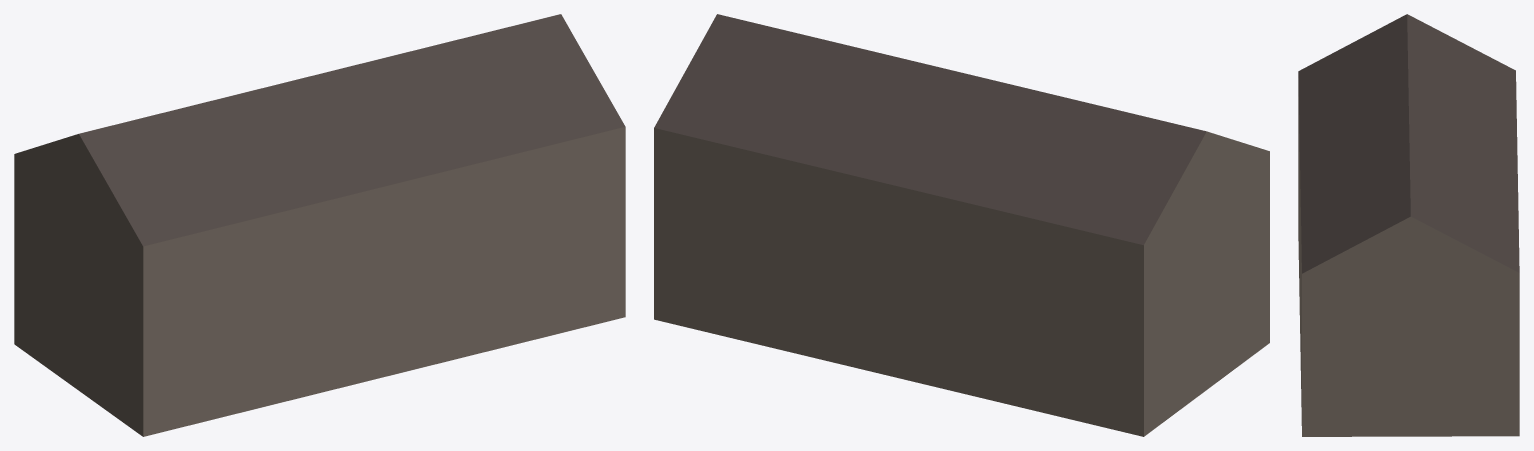
3 renders of one model, left to right at view 1: azimuth 30°, elevation 25°; view 2: azimuth 150°, elevation 25°; view 3: azimuth 270°, elevation 25°, orthographic. The views are drawn at different scales.
Visible parts, largest first — view 1: HP-w1424106423; view 2: HP-w1424106423; view 3: HP-w1424106423.
Boxes of the visible parts, x1,y1,x2,y2 form: HP-w1424106423: (14, 14, 625, 436); HP-w1424106423: (654, 14, 1269, 436); HP-w1424106423: (1298, 14, 1519, 436).
Size of the model in its own units: 16.03 by 8.09 by 7.37.
